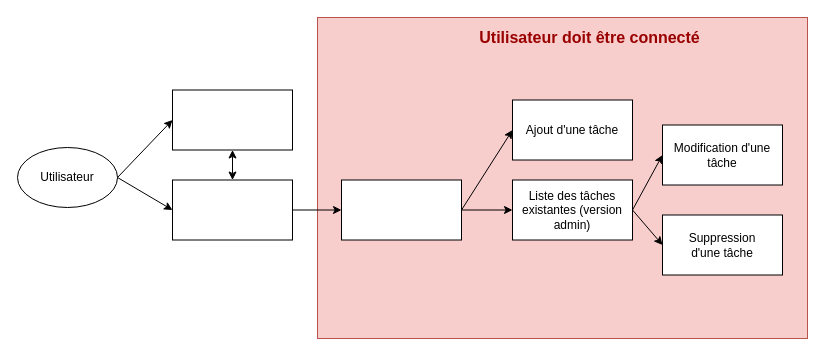
The diagram is 825 pixels wide and 356 high, and some of its shapes have lost their labels. Here are the shapes that lost their labels. From the top down, the centre of each, then its label:
At (232,119): "Liste des tâches".
At (232,209): "Page de connexion".
At (401,209): "Accueil de la zone d'administration".
